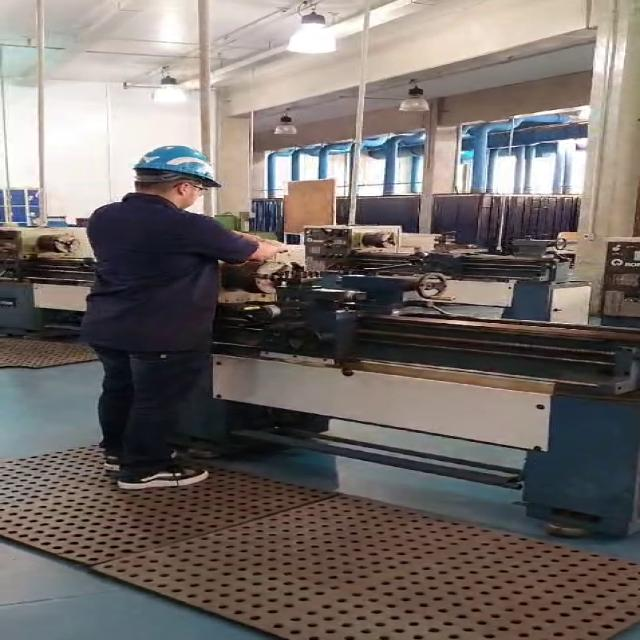oculos-epi: (177, 183, 200, 188), (197, 188, 208, 196)
